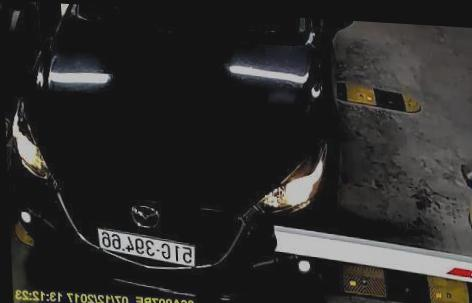License_Plate: (94, 219, 196, 274)
